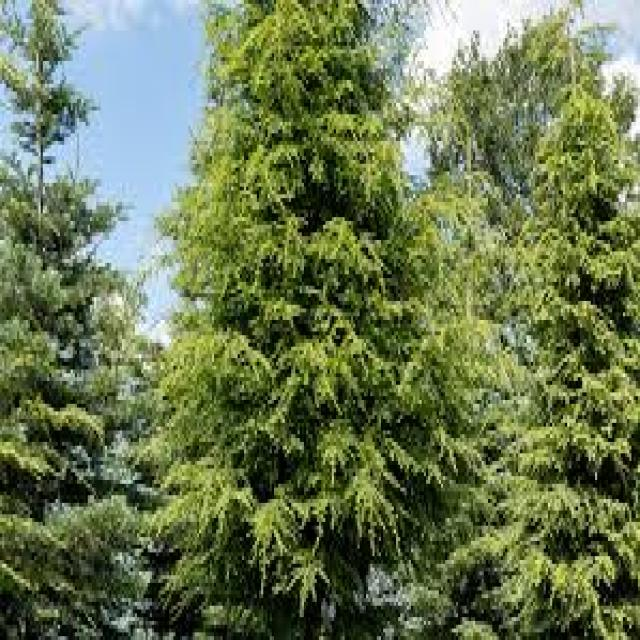sanaoubar: (176, 0, 430, 640), (14, 8, 103, 630), (547, 85, 628, 632)
